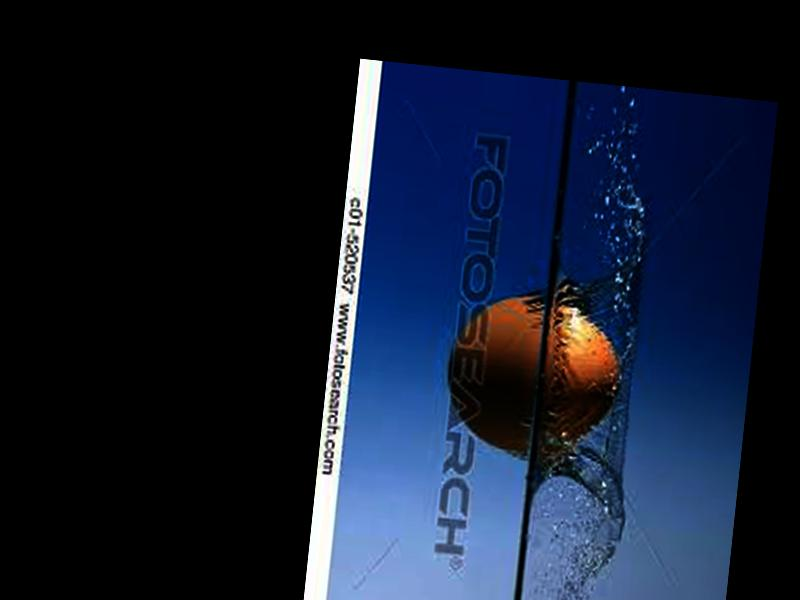Eggs: (443, 289, 628, 463)
